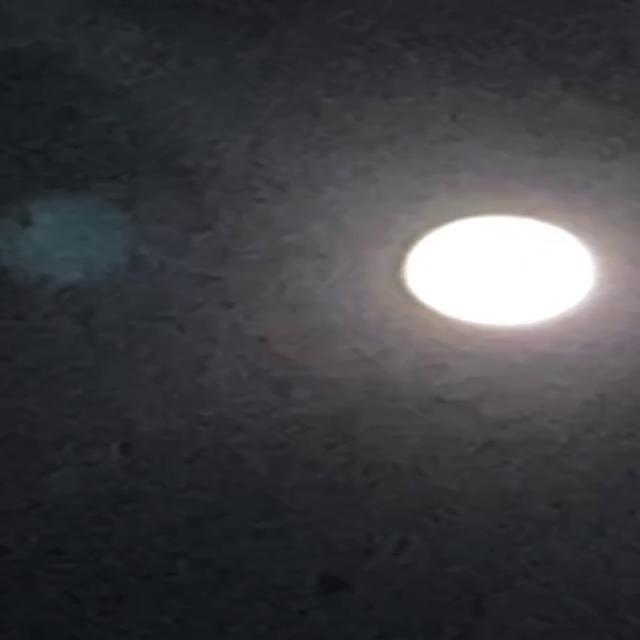moon: (399, 212, 617, 333)
